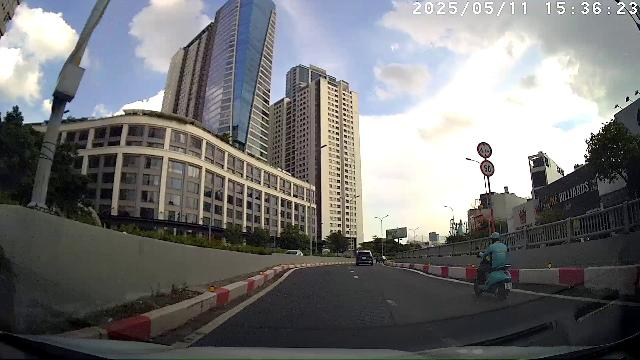127-toc-do-toi-da-50: (480, 160, 494, 176)
